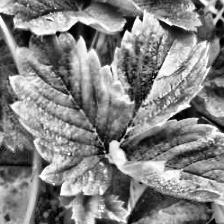Powdery Mildew Leaf: (111, 9, 212, 144), (107, 118, 224, 206)
